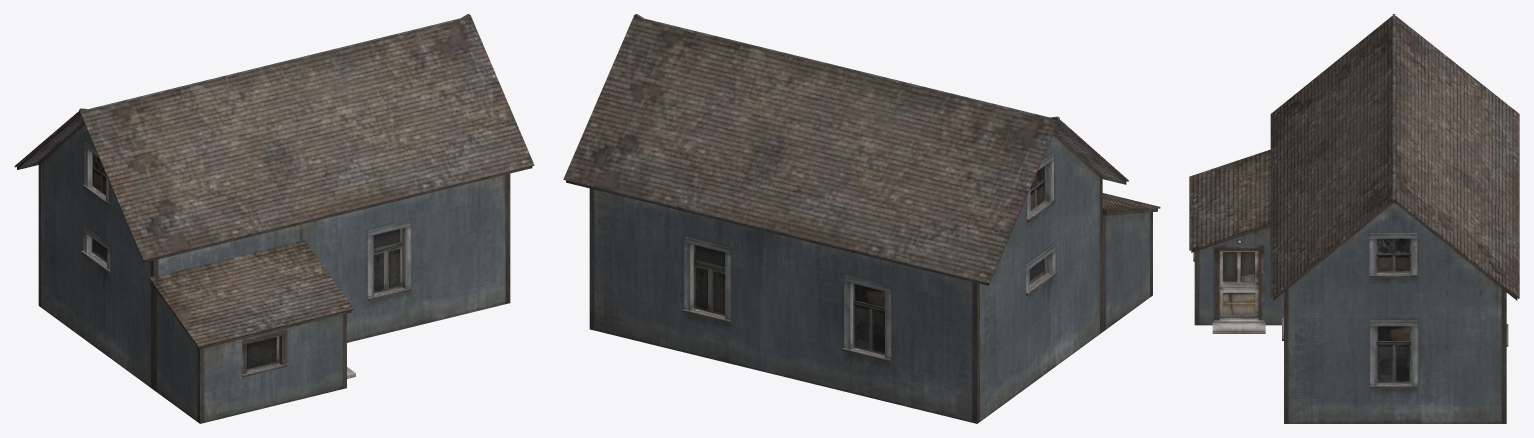
The model's file is building-sample-house-c.glb.
3 views of the same model, side by side, from view 1: azimuth 30°, elevation 25°; view 2: azimuth 150°, elevation 25°; view 3: azimuth 270°, elevation 25° (orthographic). The views are drawn at different scales.
Parts seen in each view (by area): view 1: building-sample-house-c.001; view 2: building-sample-house-c.001; view 3: building-sample-house-c.001.
Boxes of the visible parts, box(x1,y1,x2,y2) form: building-sample-house-c.001: box(14, 14, 534, 423); building-sample-house-c.001: box(563, 14, 1160, 423); building-sample-house-c.001: box(1189, 14, 1519, 423).
Size of the model in its own units: 2 by 1.19 by 1.52.
1 material, 1 textured.
